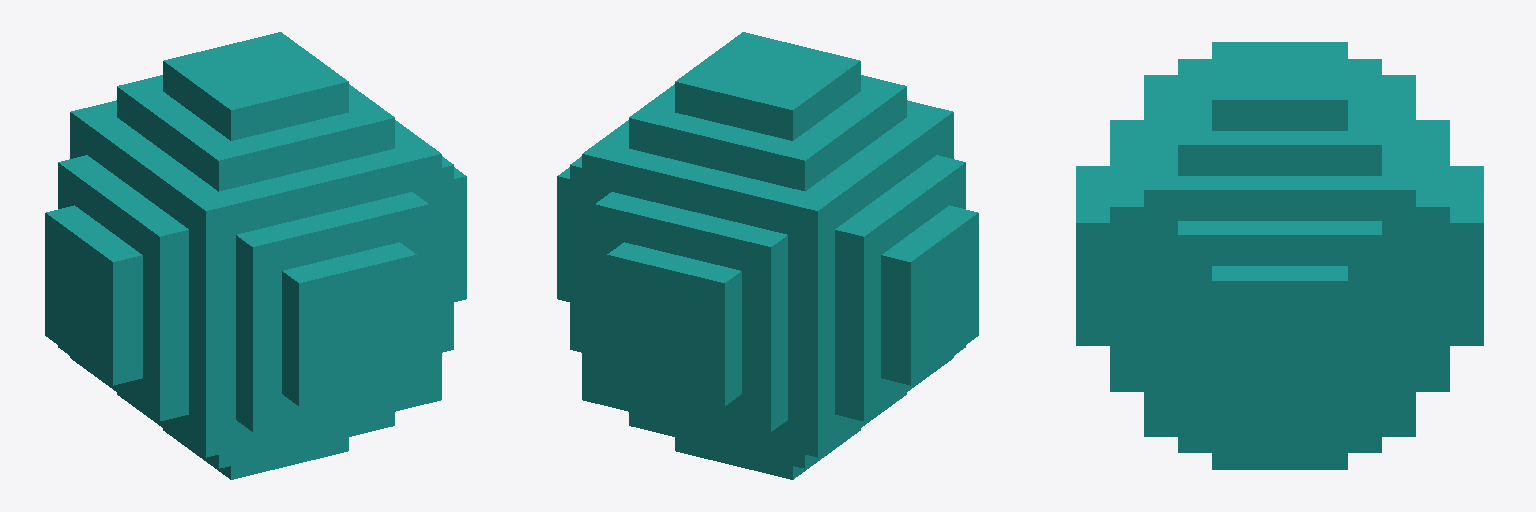
The model's file is eliCube.obj.
3 views of the same model, side by side, from view 1: azimuth 30°, elevation 25°; view 2: azimuth 150°, elevation 25°; view 3: azimuth 270°, elevation 25° (orthographic).
Parts seen in each view (by area): view 1: Cube.001; view 2: Cube.001; view 3: Cube.001.
Boxes of the visible parts, x1,y1,x2,y2 form: Cube.001: [45, 32, 466, 479]; Cube.001: [557, 32, 978, 479]; Cube.001: [1076, 42, 1483, 469].
Size of the model in its own units: 3 by 3 by 3.